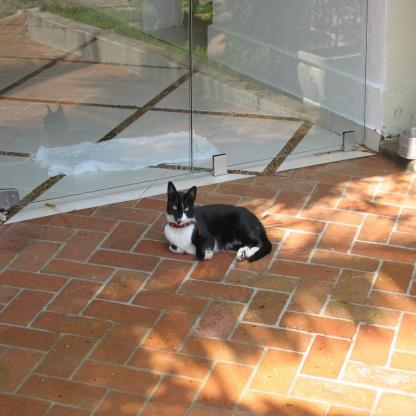cat: (155, 174, 279, 276)
